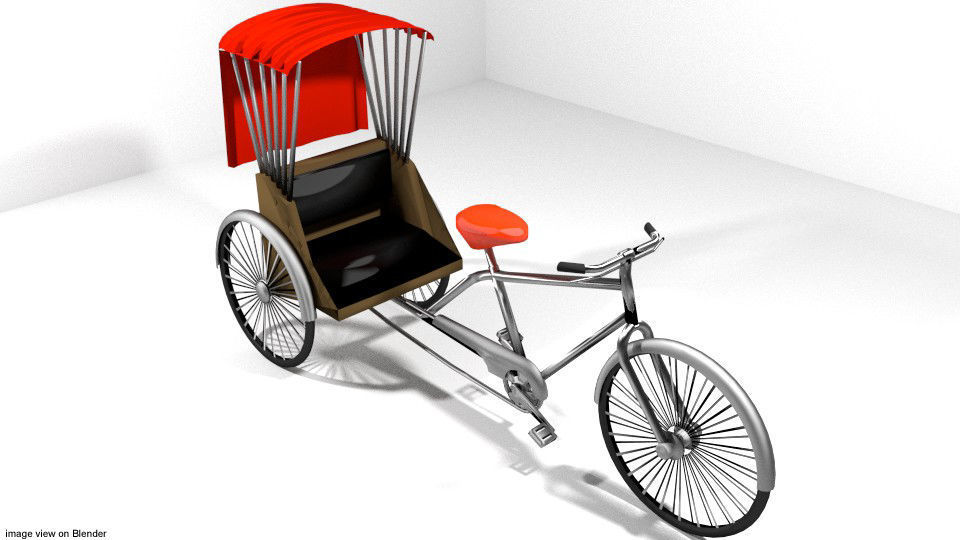Rickshaw: (199, 22, 810, 532)
